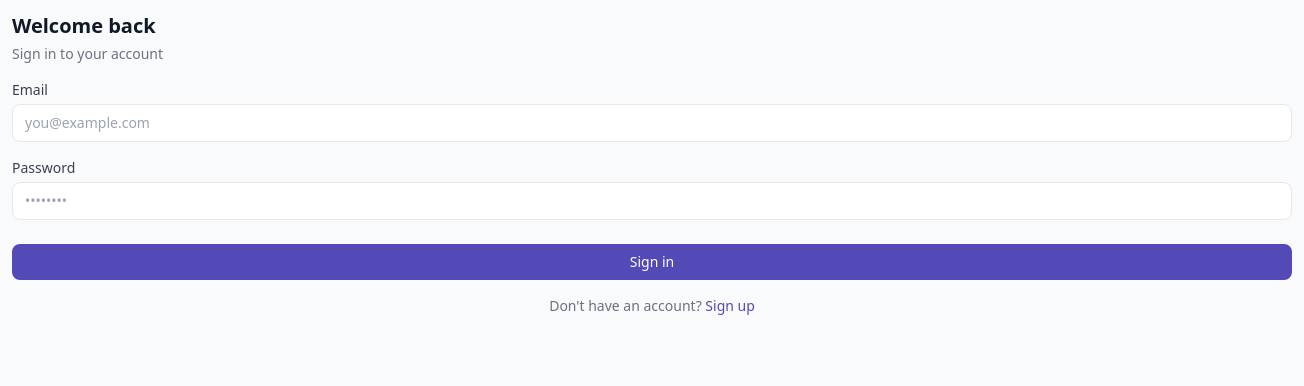
Test: LoginForm › shows error message on wrong password
Type "yashika@test.com" into the field labelled "Email".
click(652, 123); type("yashika@test.com")  # box [12, 104, 1292, 142]
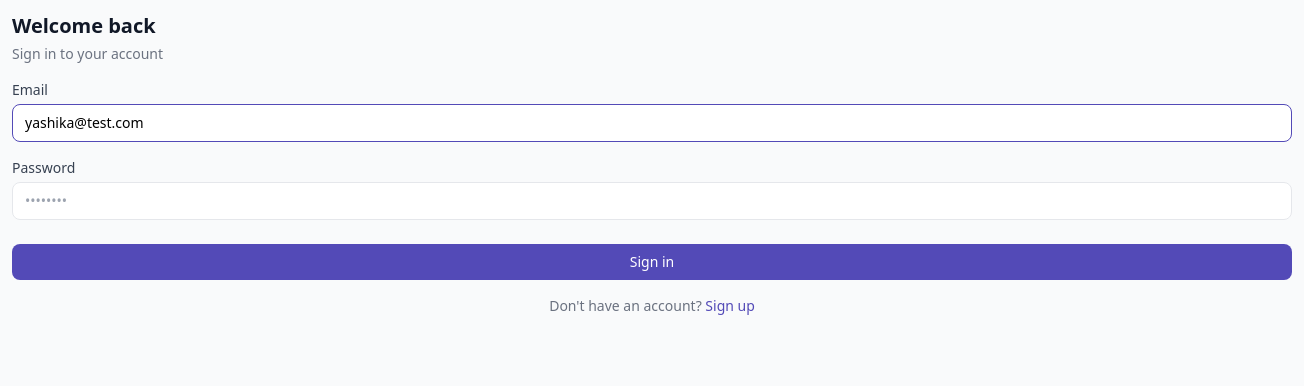
Type "wrongpassword" into the password field labelled "Password".
click(652, 201); type("wrongpassword")  # box [12, 182, 1292, 220]
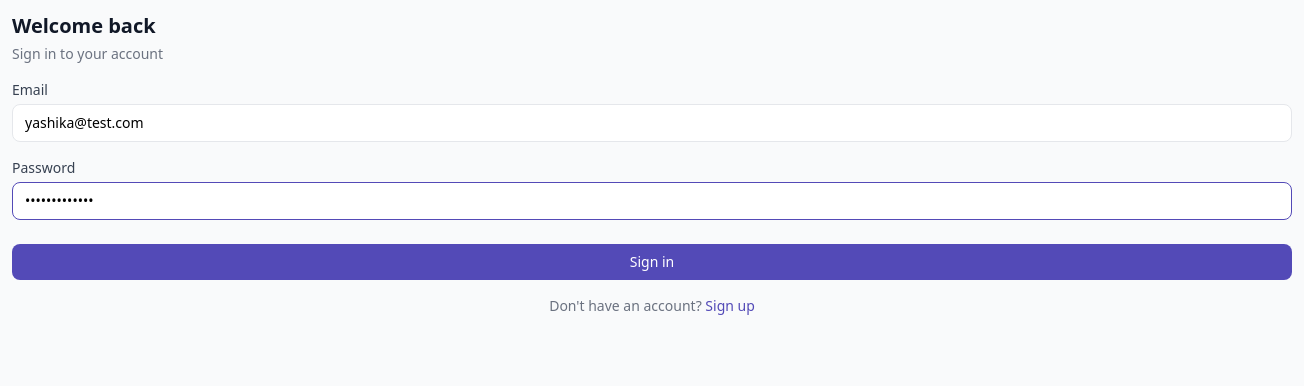
Click the button "Sign in".
click(652, 262)  # box [12, 244, 1292, 280]
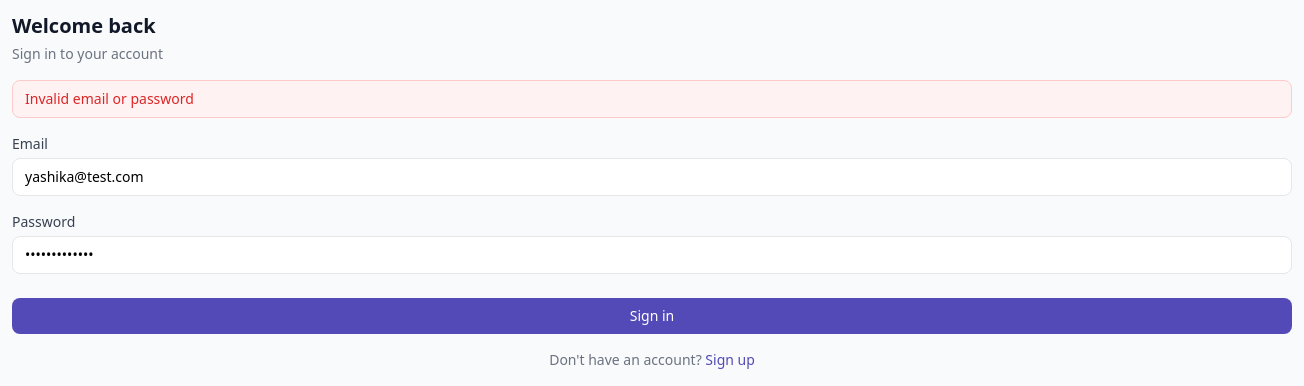
Check: the text "Invalid email or password" is shown, box [12, 80, 1292, 118]
